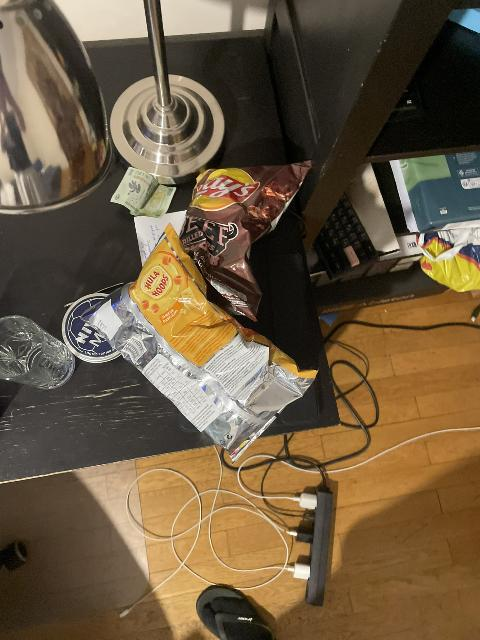Chio Hula Hoops Cheese 70g: (81, 225, 315, 464)
Lays Beef Grilled Ribs 125g: (180, 165, 308, 319)
